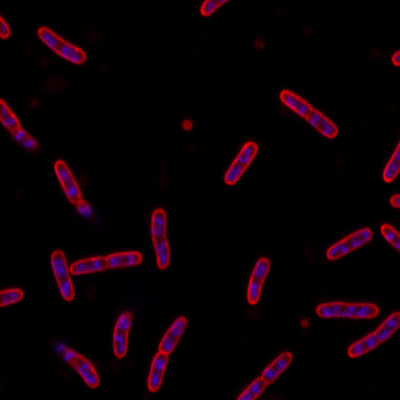Control: (147, 316, 188, 393), (236, 350, 293, 400), (280, 90, 338, 139), (347, 311, 400, 358), (38, 26, 87, 65), (69, 251, 143, 276), (326, 226, 373, 261), (223, 141, 259, 185), (49, 250, 76, 303), (316, 299, 380, 321), (151, 207, 172, 272), (247, 257, 272, 306)
Oblique: (54, 159, 92, 218), (1, 99, 40, 150), (55, 345, 100, 389), (112, 309, 133, 359), (180, 119, 194, 132), (297, 318, 310, 330)
